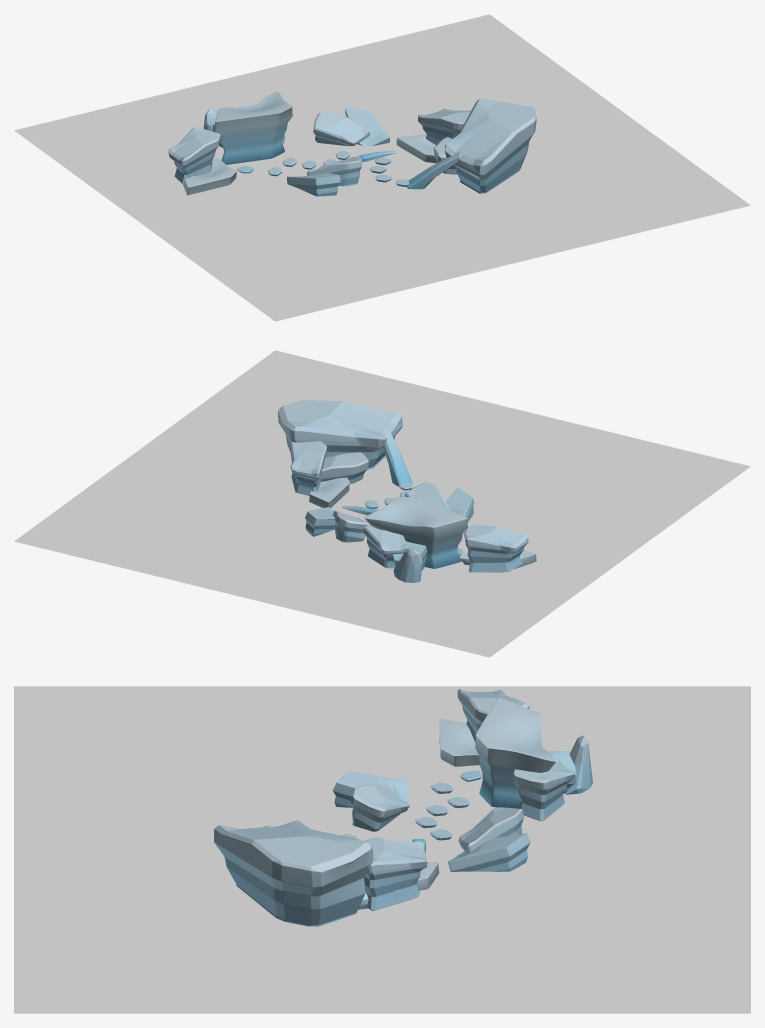
The model's file is Final level.fbx.
3 renders of one model, top to bottom at view 1: azimuth 30°, elevation 25°; view 2: azimuth 150°, elevation 25°; view 3: azimuth 270°, elevation 25°, orthographic. The views are drawn at different scales.
Parts seen in each view (by area): view 1: SM_Ground.001, Plane.091, Plane.098, Plane.080, Plane.101, Plane.088, Plane.083, Plane.100, Plane.102, Plane.099, Plane.089, Cube.110; view 2: SM_Ground.001, Plane.091, Plane.098, Plane.080, Plane.088, Plane.096, Plane.090, Plane.089, Plane.101, Cube.110, Cube.109, Plane.102 (+2 smaller); view 3: SM_Ground.001, Plane.091, Plane.098, Plane.088, Plane.096, Plane.102, Plane.099, Plane.101, Plane.083, Plane.080, Plane.100, Cube.109.
Part boxes in pixels (<box>): SM_Ground.001: <box>14,14,750,321</box>; Plane.091: <box>444,99,536,193</box>; Plane.098: <box>214,92,292,164</box>; Plane.080: <box>168,127,220,184</box>; Plane.101: <box>313,111,369,146</box>; Plane.088: <box>418,108,471,145</box>; Plane.083: <box>183,158,236,195</box>; Plane.100: <box>287,173,340,196</box>; Plane.102: <box>345,108,389,146</box>; Plane.099: <box>307,156,361,186</box>; Plane.089: <box>396,134,437,163</box>; Cube.110: <box>407,151,464,189</box>; SM_Ground.001: <box>14,350,750,657</box>; Plane.091: <box>277,400,402,469</box>; Plane.098: <box>364,497,467,568</box>; Plane.080: <box>463,524,528,572</box>; Plane.088: <box>290,441,326,495</box>; Plane.096: <box>363,524,408,568</box>; Plane.090: <box>294,452,368,484</box>; Plane.089: <box>309,477,349,507</box>; Plane.101: <box>333,510,369,542</box>; Cube.110: <box>381,428,412,486</box>; Cube.109: <box>393,549,422,582</box>; Plane.102: <box>305,507,335,536</box>; SM_Ground.001: <box>14,686,750,1013</box>; Plane.091: <box>214,820,373,926</box>; Plane.098: <box>475,697,556,808</box>; Plane.088: <box>364,840,427,910</box>; Plane.096: <box>513,756,575,821</box>; Plane.102: <box>448,833,530,871</box>; Plane.099: <box>351,784,409,831</box>; Plane.101: <box>458,807,523,853</box>; Plane.083: <box>439,719,479,766</box>; Plane.080: <box>457,689,529,742</box>; Plane.100: <box>332,772,408,807</box>; Cube.109: <box>564,735,592,794</box>.
Size of the model in its own units: 10154 by 1546 by 9656.
